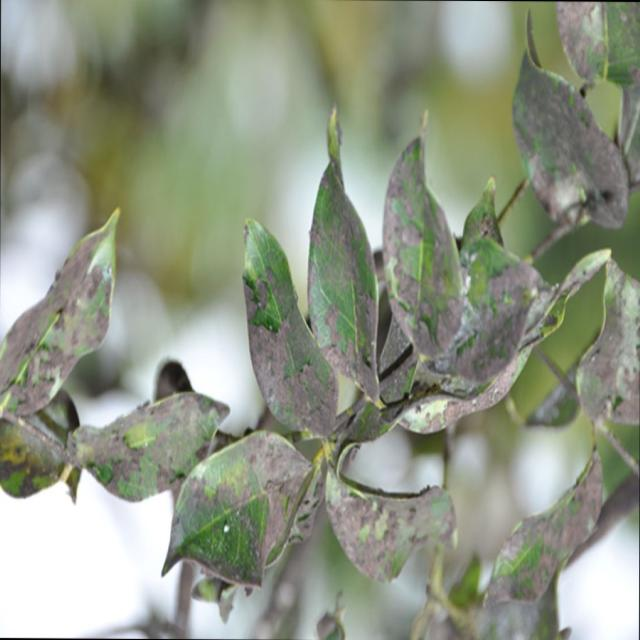Sooty Mold: (2, 5, 637, 636)
